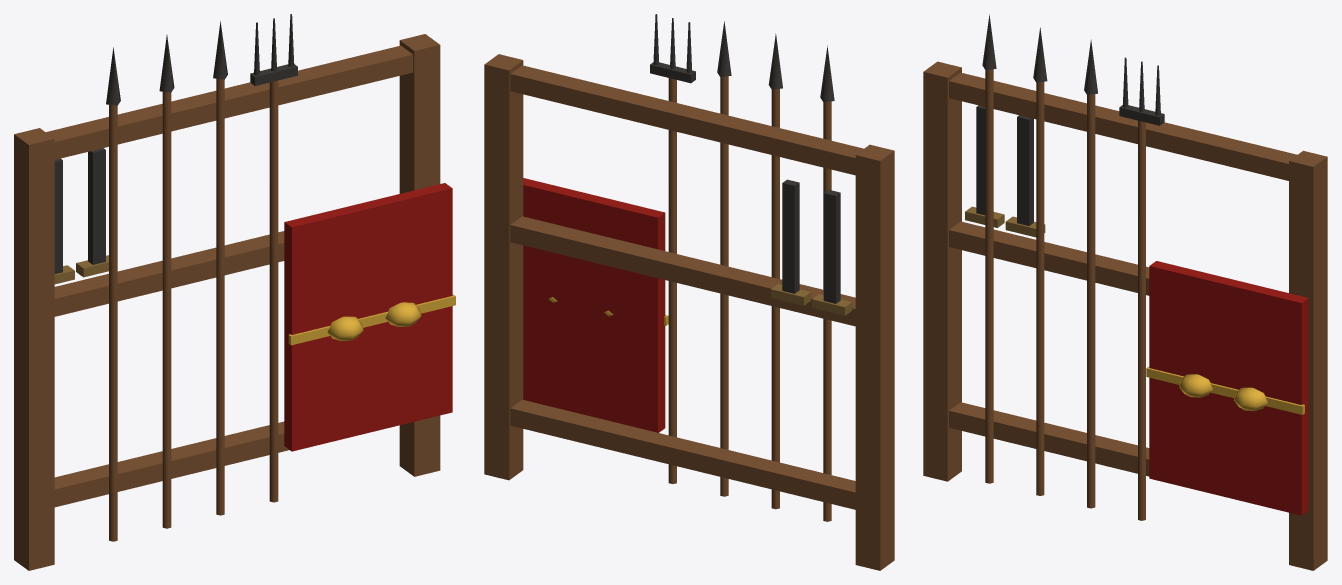
Rendered from im_weapon_rack.glb.
3 renders of one model, left to right at view 1: azimuth 30°, elevation 25°; view 2: azimuth 150°, elevation 25°; view 3: azimuth 330°, elevation 25°, orthographic. The views are drawn at different scales.
Visible parts, largest first — view 1: im_weapon_rack; view 2: im_weapon_rack; view 3: im_weapon_rack.
Part boxes in pixels (bbox=[...]): im_weapon_rack: bbox=[14, 14, 455, 570]; im_weapon_rack: bbox=[484, 14, 894, 570]; im_weapon_rack: bbox=[923, 14, 1327, 570].
Bounding box in the file's own units: 1.93 × 2.28 × 0.38.
